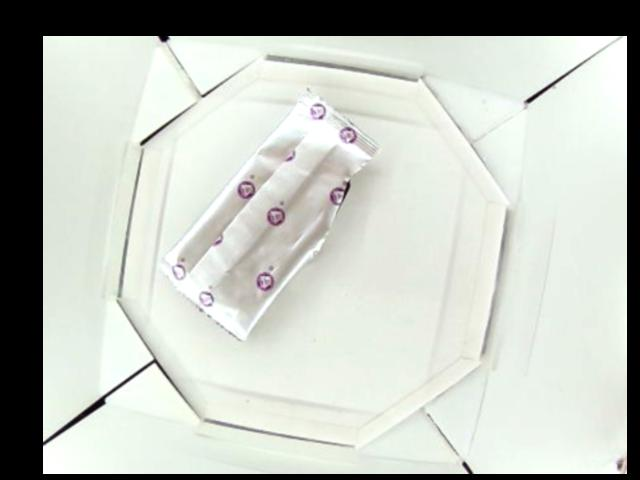Medicine: (159, 87, 376, 342)
